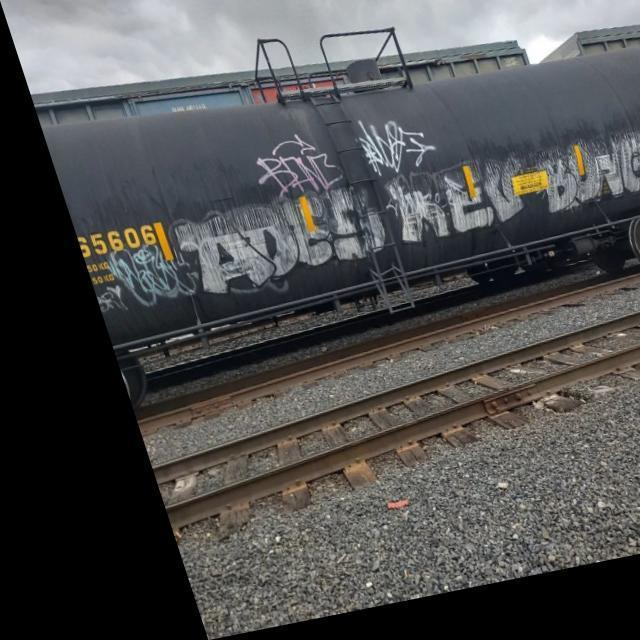-: (151, 142, 640, 298), (228, 138, 336, 216), (60, 217, 162, 290), (332, 122, 430, 192), (88, 243, 179, 307), (75, 284, 108, 319), (629, 165, 640, 212)
